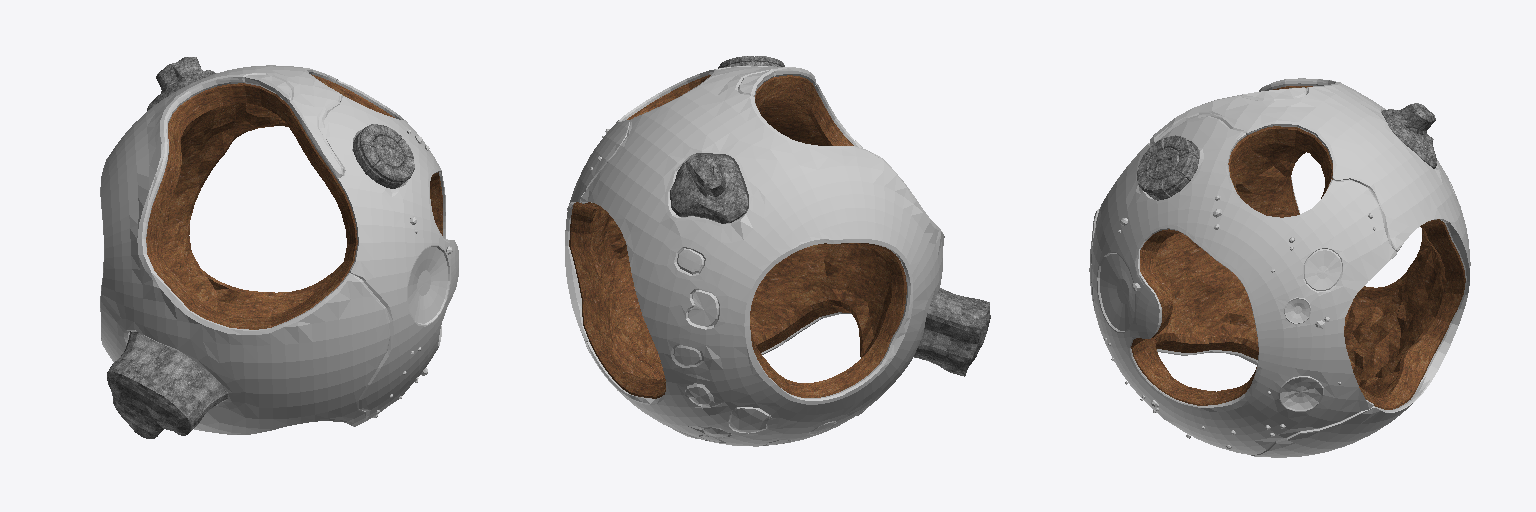
3 renders of one model, left to right at view 1: azimuth 30°, elevation 25°; view 2: azimuth 150°, elevation 25°; view 3: azimuth 270°, elevation 25°, orthographic.
Visible parts, largest first — view 1: Hole Planet; view 2: Hole Planet; view 3: Hole Planet.
Part boxes in pixels (x1,y1,x2,y2): Hole Planet: (100, 57, 458, 438); Hole Planet: (565, 56, 990, 446); Hole Planet: (1089, 78, 1470, 457).
Bounding box in the file's own units: 69.86 × 63.64 × 63.87.
4 materials, 2 textured.